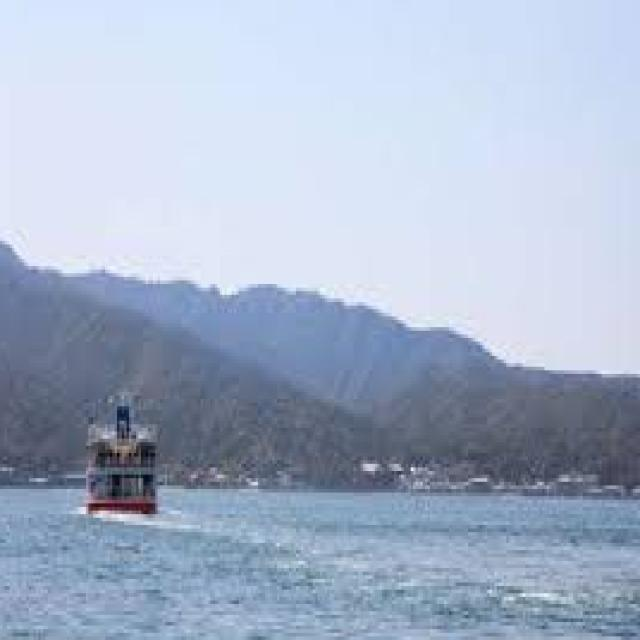fishing boat: (86, 389, 163, 522)
